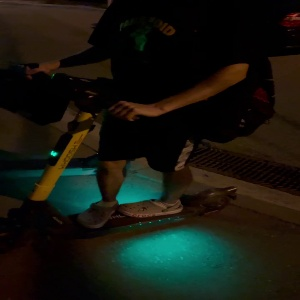human on a scooter: (1, 1, 279, 253)
